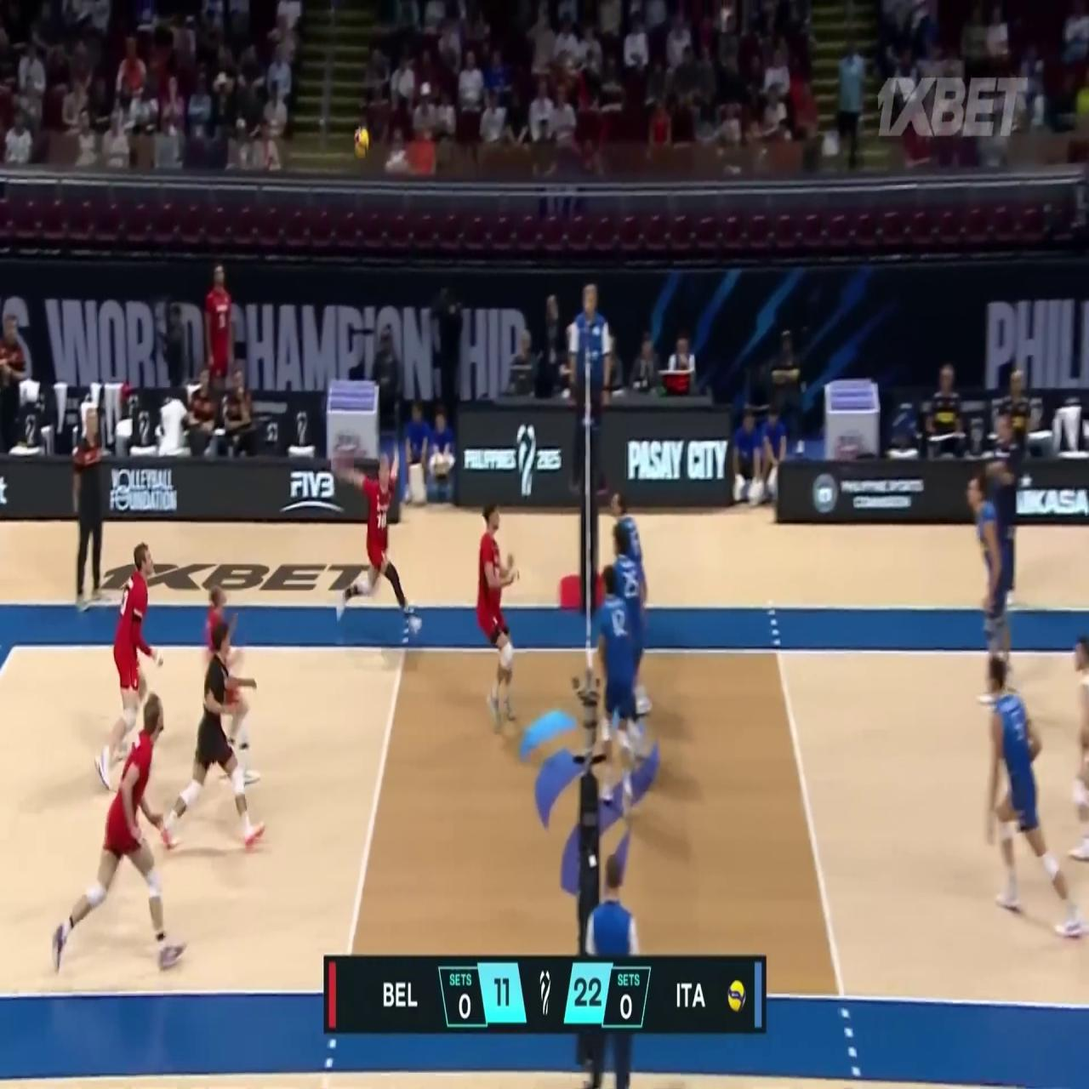ball: (353, 127, 369, 158)
